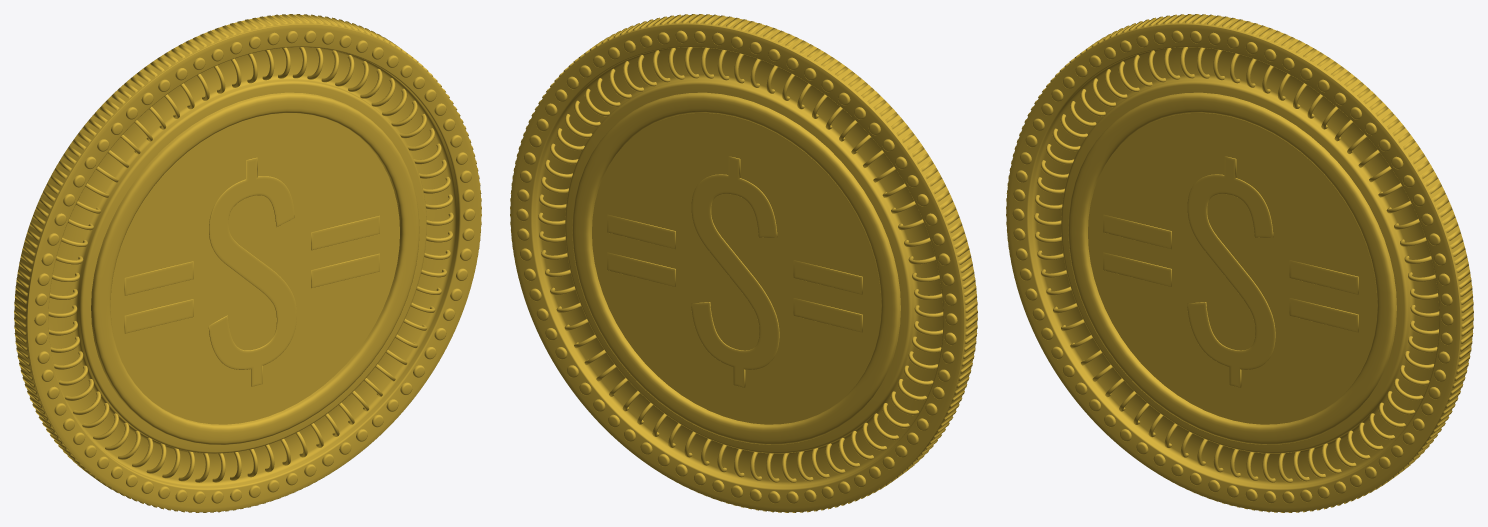
The model's file is interesting_coin.glb.
3 views of the same model, side by side, from view 1: azimuth 30°, elevation 25°; view 2: azimuth 150°, elevation 25°; view 3: azimuth 330°, elevation 25° (orthographic).
Visible parts, largest first — view 1: Coin_0; view 2: Coin_0; view 3: Coin_0.
Boxes of the visible parts, left/top/right/bottom form: Coin_0: left=14, top=14, right=481, bottom=512; Coin_0: left=510, top=14, right=977, bottom=512; Coin_0: left=1006, top=14, right=1473, bottom=512.
Bounding box in the file's own units: 0.4025 × 0.4025 × 0.0297.
